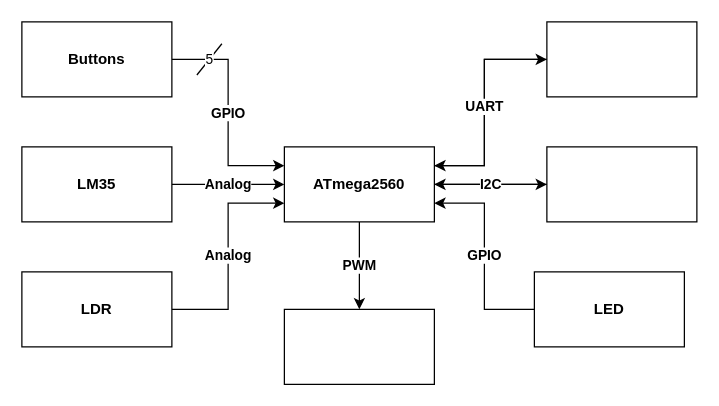
Some shapes in this 719 by 406 pixel diagram are drawn without their labels. The shapes that lost their labels are listed below. From the top down, each one's box as (x1, y1, x2, y2) in pixels, then its label:
(546, 21, 697, 97): Debug Interface
(546, 146, 697, 222): LCD
(283, 308, 434, 384): DC Motor
